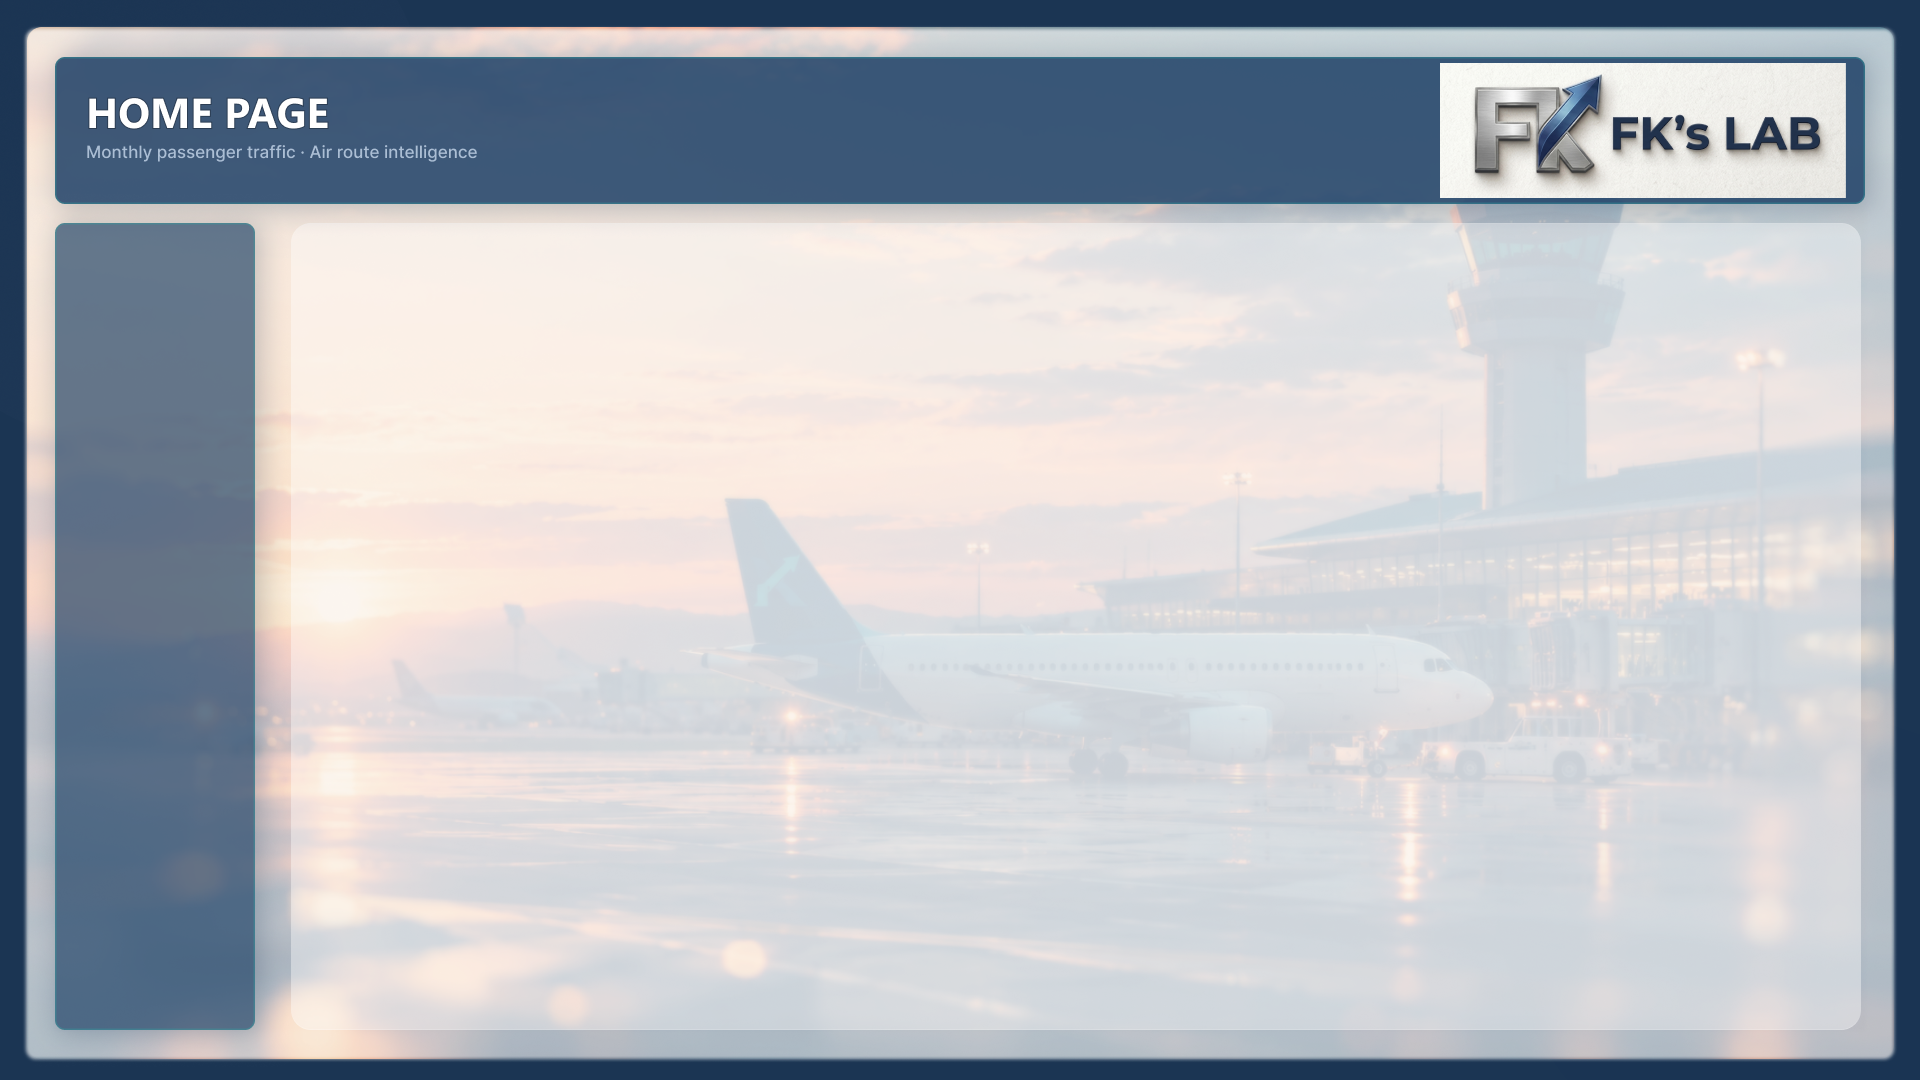

This screenshot's page, from the dashboard's own definition file:
{"tool":"powerbi","page":{"name":"Home","canvas":[1920,1080],"ordinal":0},"visuals":[{"type":"pageNavigator","box":[45.7,221.4,162.9,148.6],"z":0}]}

Visuals, with their boxes in screenshot pixels (x1, y1, x2, y2), scaled from the page's 1920x1080 canvas onto the 1920x1080 screenshot:
pageNavigator: locate(46, 221, 209, 370)
